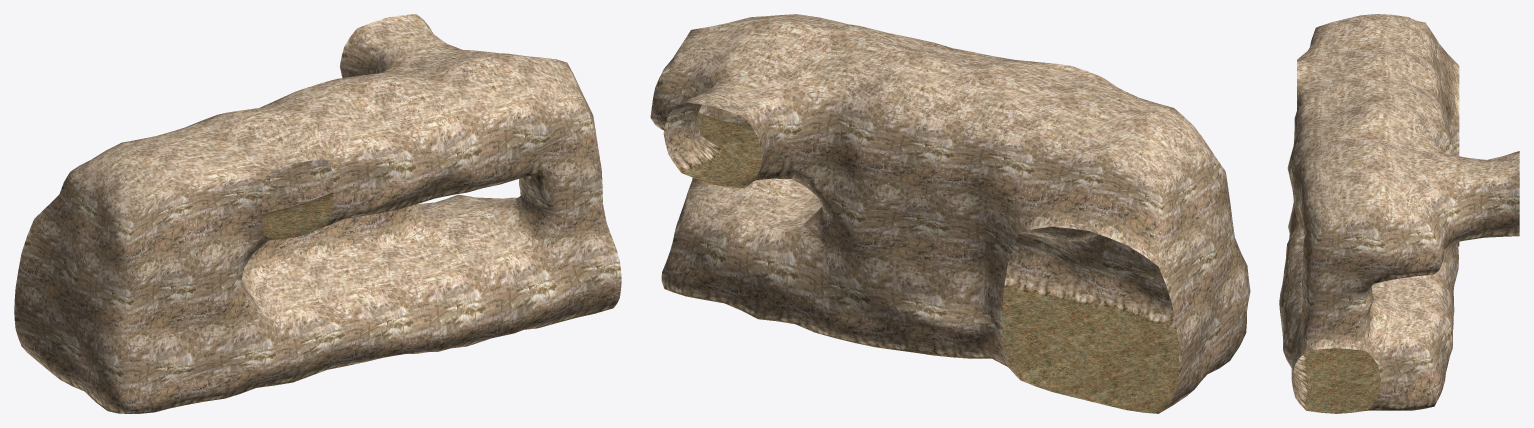
File: thm_all_cave_flatland_s03_r11_mesh_r11.fbx
3 renders of one model, left to right at view 1: azimuth 30°, elevation 25°; view 2: azimuth 150°, elevation 25°; view 3: azimuth 270°, elevation 25°, orthographic. The views are drawn at different scales.
Visible parts, largest first — view 1: mesh_node; view 2: mesh_node; view 3: mesh_node.
Boxes of the visible parts, bbox=[...] form: mesh_node: bbox=[14, 14, 621, 413]; mesh_node: bbox=[650, 14, 1250, 413]; mesh_node: bbox=[1279, 14, 1519, 413].
Bounding box in the file's own units: 58.69 × 27.21 × 26.24.
